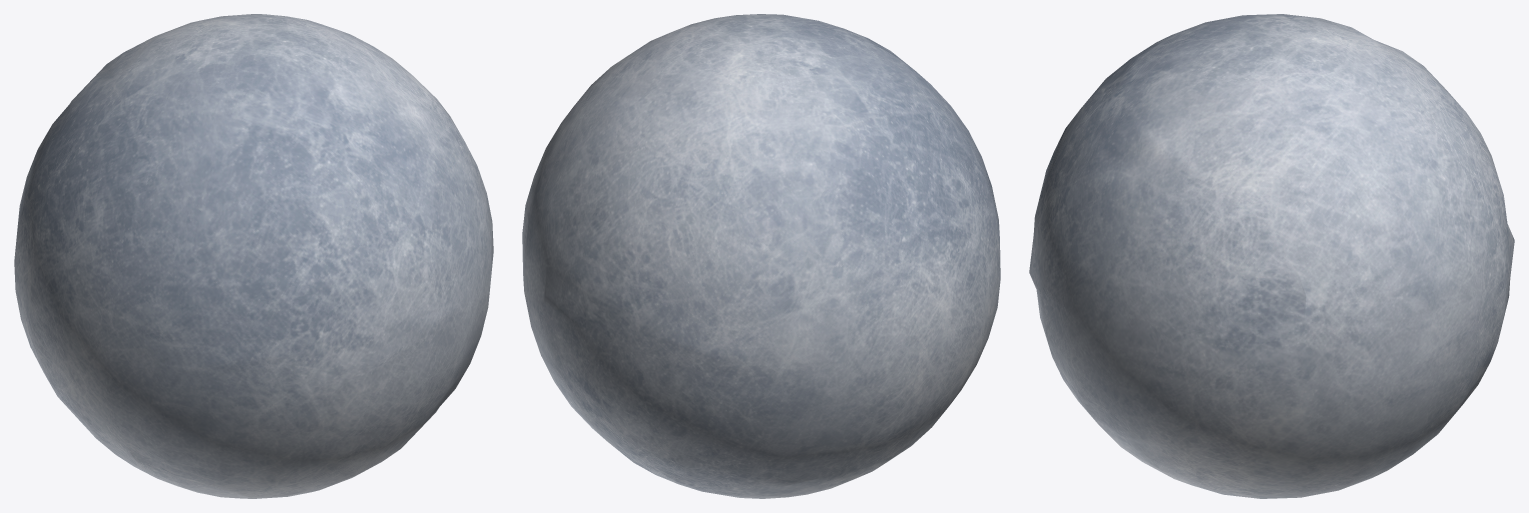
The model's file is Luna.fbx.
3 renders of one model, left to right at view 1: azimuth 30°, elevation 25°; view 2: azimuth 150°, elevation 25°; view 3: azimuth 270°, elevation 25°, orthographic.
Visible parts, largest first — view 1: tripo_node_a0887fd6; view 2: tripo_node_a0887fd6; view 3: tripo_node_a0887fd6.
Boxes of the visible parts, x1,y1,x2,y2 form: tripo_node_a0887fd6: (14, 14, 493, 498); tripo_node_a0887fd6: (522, 14, 1000, 498); tripo_node_a0887fd6: (1029, 14, 1514, 498).
Bounding box in the file's own units: 0.9849 × 0.9995 × 0.9985.
